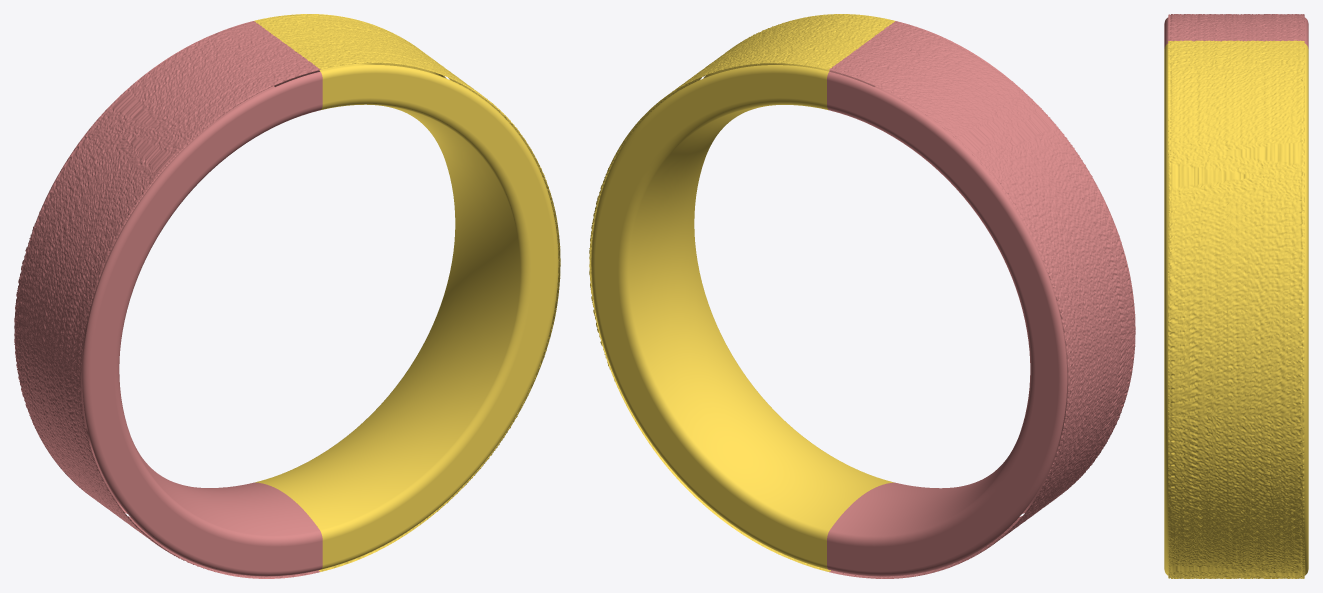
The picture shows the model from 3 angles, left to right: view 1: azimuth 30°, elevation 25°; view 2: azimuth 150°, elevation 25°; view 3: azimuth 270°, elevation 25°; orthographic projection.
Visible parts, largest first — view 1: ZB 291 R.3dm; view 2: ZB 291 R.3dm; view 3: ZB 291 R.3dm.
Part boxes in pixels (bbox=[...]): ZB 291 R.3dm: bbox=[14, 14, 560, 578]; ZB 291 R.3dm: bbox=[589, 14, 1135, 578]; ZB 291 R.3dm: bbox=[1164, 14, 1308, 578].
Size of the model in its own units: 2.78 by 2.78 by 0.7106.
